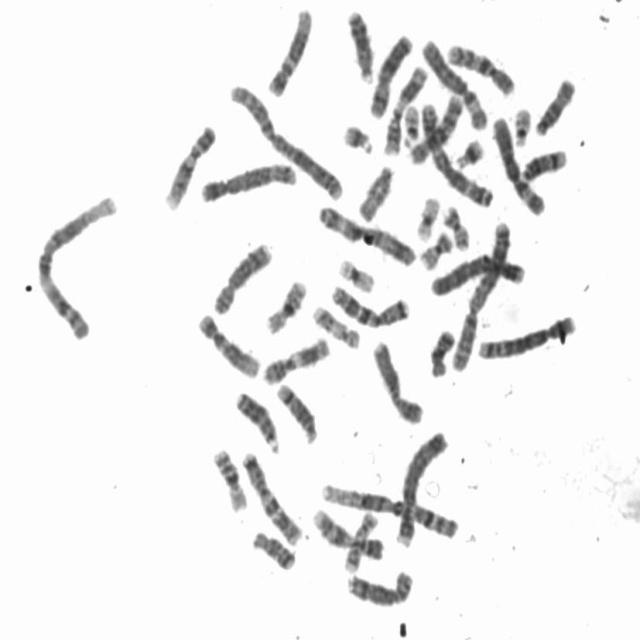A1: (31, 188, 121, 342), (317, 477, 462, 541)
A2: (225, 77, 345, 203), (448, 216, 512, 373)
A3: (416, 94, 494, 209), (314, 199, 419, 268)
B4: (392, 424, 451, 550), (426, 249, 528, 298)
B5: (474, 308, 578, 362), (197, 156, 299, 204)
C10: (405, 89, 466, 168), (443, 37, 518, 98)
C11: (381, 60, 431, 156), (258, 331, 332, 386)
C12: (263, 2, 315, 99), (194, 308, 262, 380)
C6: (418, 34, 491, 132), (488, 110, 548, 218)
C7: (238, 445, 305, 547), (328, 278, 412, 329)
C8: (210, 236, 274, 316), (343, 564, 415, 608)
C9: (161, 118, 219, 212), (308, 502, 385, 561)
D13: (231, 384, 281, 454), (343, 3, 377, 84)
D14: (273, 377, 320, 446), (518, 143, 570, 184)
D15: (532, 72, 578, 138), (354, 159, 396, 223)
E16: (262, 274, 309, 336), (209, 442, 250, 513)
E17: (309, 299, 362, 351), (340, 508, 380, 575)
E18: (248, 524, 298, 572), (426, 323, 457, 379)
F19: (334, 253, 378, 294), (412, 190, 442, 242)
F20: (416, 226, 455, 271), (439, 200, 472, 252)
G21: (339, 117, 376, 156), (451, 132, 486, 170)
G22: (398, 97, 422, 149), (509, 101, 534, 148)
X: (368, 335, 426, 427), (366, 27, 415, 120)
